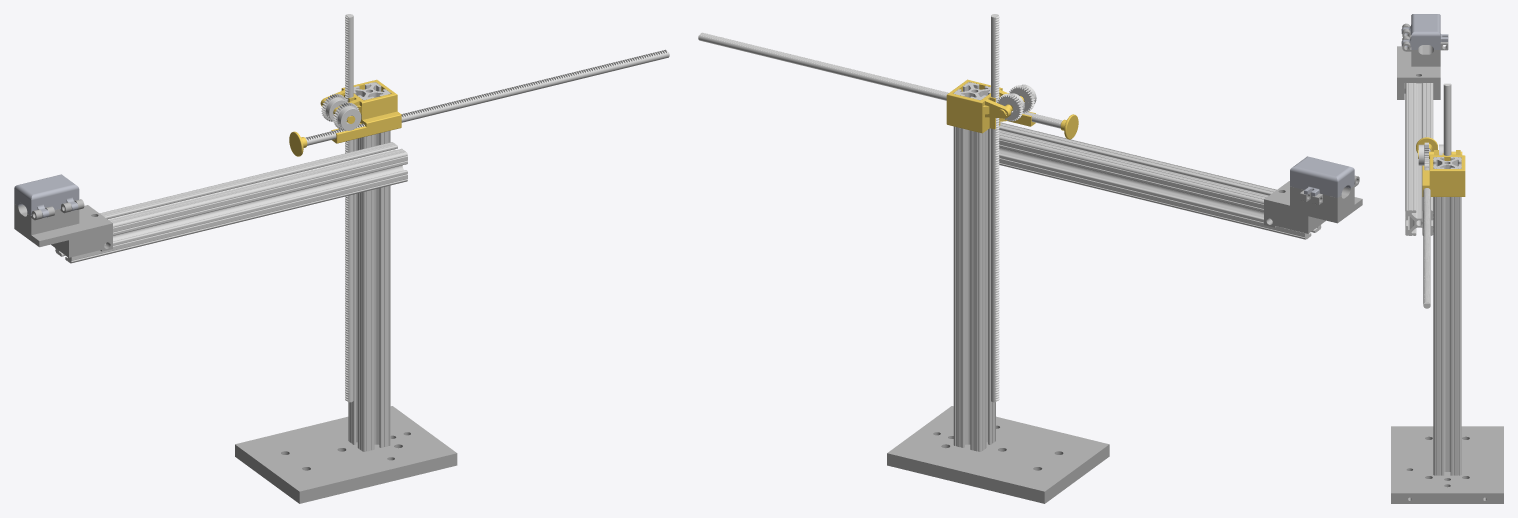
File: travel-distance-fixture.glb
The picture shows the model from 3 angles, left to right: view 1: azimuth 30°, elevation 25°; view 2: azimuth 150°, elevation 25°; view 3: azimuth 270°, elevation 25°; orthographic projection. The views are drawn at different scales.
Parts seen in each view (by area): view 1: 8020 Beam-2, Instron_Base_Recon_Ver-1, 8020 Beam-1, Syringe Holder VH-1, 2485N226_Metal Gear Rack - 20 Degree Pressure Angle-2, 2485N226_Metal Gear Rack - 20 Degree Pressure Angle-1, TDF_RPC_V2-1, Upper Clamp-1; view 2: 8020 Beam-1, 8020 Beam-2, Instron_Base_Recon_Ver-1, Syringe Holder VH-1, 2485N226_Metal Gear Rack - 20 Degree Pressure Angle-1, 2485N226_Metal Gear Rack - 20 Degree Pressure Angle-2, TDF_RPC_V2-1, Upper Clamp-1; view 3: 8020 Beam-1, Instron_Base_Recon_Ver-1, 8020 Beam-2, Syringe Holder VH-1, TDF_RPC_V2-1, Upper Clamp-1, 2485N226_Metal Gear Rack - 20 Degree Pressure Angle-2, 2485N226_Metal Gear Rack - 20 Degree Pressure Angle-1, 2664N492_Metal Gear - 20 Degree Pressure Angle (2)-3, Rack Plate-1.
Boxes of the visible parts, left/top/right/bottom form: 8020 Beam-2: left=55, top=142, right=407, bottom=263; Instron_Base_Recon_Ver-1: left=235, top=406, right=457, bottom=503; 8020 Beam-1: left=348, top=82, right=390, bottom=451; Syringe Holder VH-1: left=14, top=199, right=112, bottom=257; 2485N226_Metal Gear Rack - 20 Degree Pressure Angle-2: left=305, top=49, right=669, bottom=145; 2485N226_Metal Gear Rack - 20 Degree Pressure Angle-1: left=345, top=14, right=353, bottom=402; TDF_RPC_V2-1: left=320, top=79, right=401, bottom=143; Upper Clamp-1: left=14, top=174, right=79, bottom=217; 8020 Beam-1: left=953, top=82, right=995, bottom=451; 8020 Beam-2: left=999, top=122, right=1321, bottom=239; Instron_Base_Recon_Ver-1: left=887, top=406, right=1109, bottom=503; Syringe Holder VH-1: left=1264, top=175, right=1362, bottom=233; 2485N226_Metal Gear Rack - 20 Degree Pressure Angle-1: left=991, top=14, right=999, bottom=402; 2485N226_Metal Gear Rack - 20 Degree Pressure Angle-2: left=698, top=32, right=1062, bottom=128; TDF_RPC_V2-1: left=946, top=79, right=1035, bottom=133; Upper Clamp-1: left=1290, top=156, right=1354, bottom=197; 8020 Beam-1: left=1433, top=157, right=1461, bottom=475; Instron_Base_Recon_Ver-1: left=1391, top=426, right=1503, bottom=503; 8020 Beam-2: left=1405, top=83, right=1433, bottom=235; Syringe Holder VH-1: left=1397, top=23, right=1448, bottom=99; TDF_RPC_V2-1: left=1422, top=150, right=1465, bottom=196; Upper Clamp-1: left=1401, top=14, right=1448, bottom=49; 2485N226_Metal Gear Rack - 20 Degree Pressure Angle-2: left=1423, top=148, right=1430, bottom=308; 2485N226_Metal Gear Rack - 20 Degree Pressure Angle-1: left=1443, top=83, right=1451, bottom=155; 2664N492_Metal Gear - 20 Degree Pressure Angle (2)-3: left=1418, top=142, right=1428, bottom=167; Rack Plate-1: left=1416, top=137, right=1437, bottom=152.
Bounding box in the file's own units: 0.8772 × 0.5775 × 0.1524.
